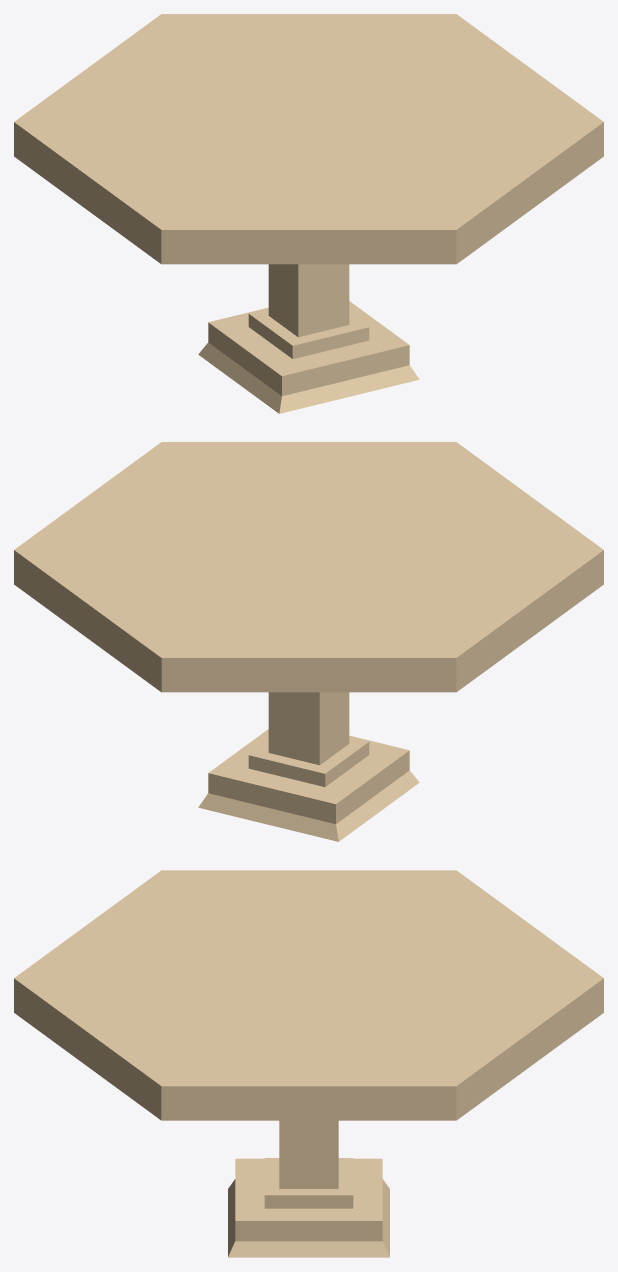
The model's file is table.glb.
The picture shows the model from 3 angles, top to bottom: view 1: azimuth 30°, elevation 25°; view 2: azimuth 150°, elevation 25°; view 3: azimuth 270°, elevation 25°; orthographic projection.
Visible parts, largest first — view 1: tableRound; view 2: tableRound; view 3: tableRound.
Part boxes in pixels (x1,y1,x2,y2): tableRound: (14,14,603,413); tableRound: (14,442,603,841); tableRound: (14,870,603,1257).
Bounding box in the file's own units: 6.93 × 3.67 × 8.
